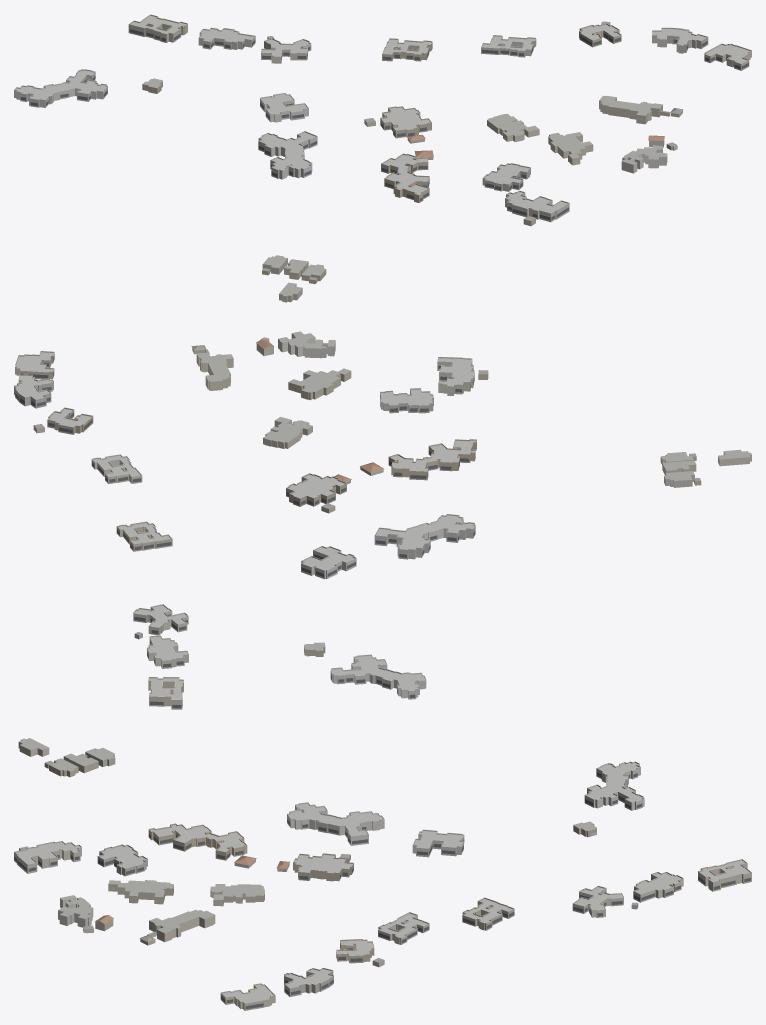
Rendered from buildings_r6_c2.glb.
3 renders of one model, top to bottom at view 1: azimuth 30°, elevation 25°; view 2: azimuth 150°, elevation 25°; view 3: azimuth 270°, elevation 25°, orthographic. The views are drawn at different scales.
Visible parts, largest first — view 1: buildings_r6_c2; view 2: buildings_r6_c2; view 3: buildings_r6_c2.
Boxes of the visible parts, x1=… form: buildings_r6_c2: x1=14, y1=14, x2=751, y2=302; buildings_r6_c2: x1=14, y1=331, x2=751, y2=709; buildings_r6_c2: x1=14, y1=738, x2=751, y2=1010.
Bounding box in the file's own units: 556 × 60.65 × 586.
